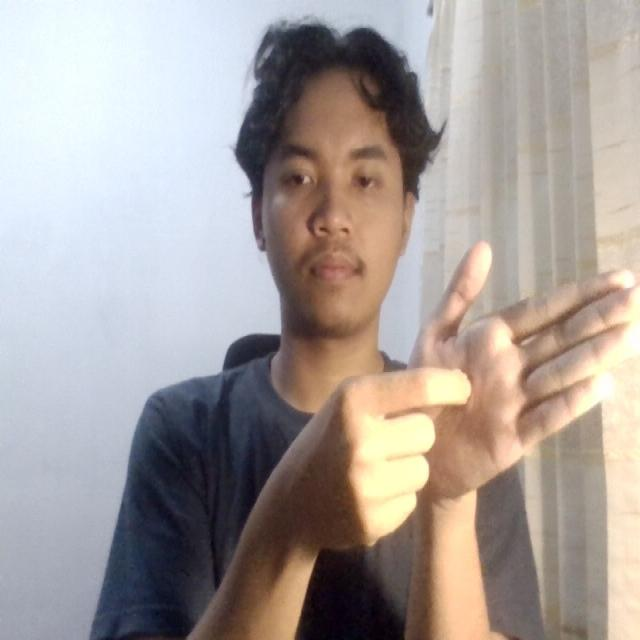L: (319, 227, 640, 541)
